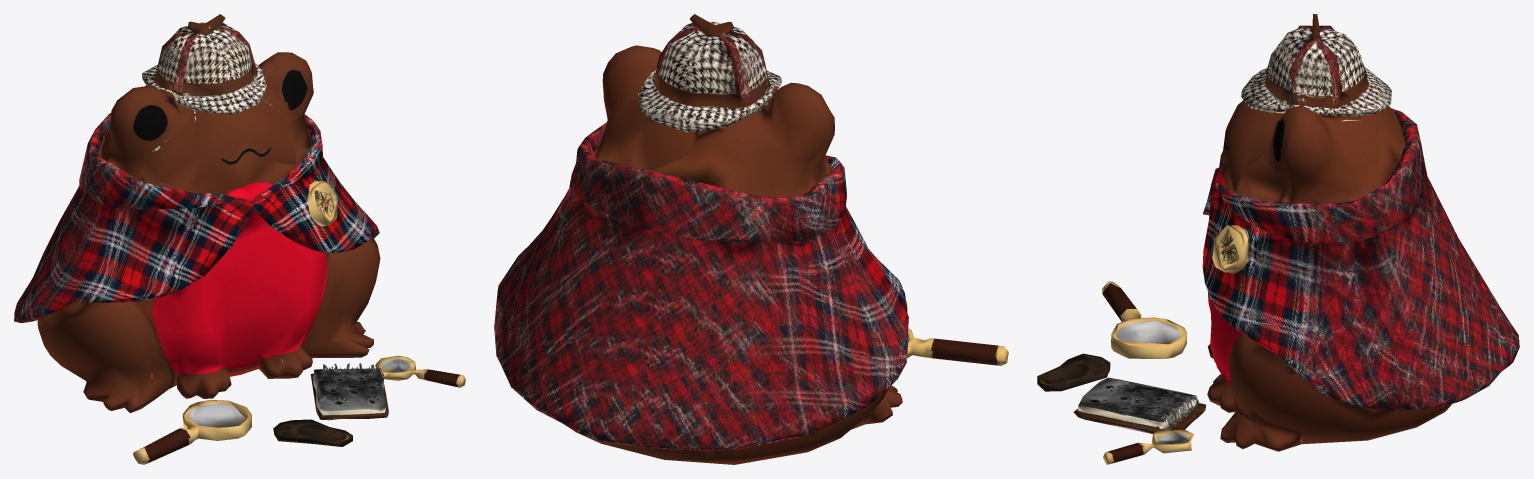
The model's file is limier.glb.
3 renders of one model, left to right at view 1: azimuth 30°, elevation 25°; view 2: azimuth 150°, elevation 25°; view 3: azimuth 270°, elevation 25°, orthographic. The views are drawn at different scales.
Parts seen in each view (by area): view 1: mesh_node; view 2: mesh_node; view 3: mesh_node.
Boxes of the visible parts, x1=… form: mesh_node: x1=14, y1=14, x2=465, y2=464; mesh_node: x1=494, y1=14, x2=1008, y2=464; mesh_node: x1=1037, y1=14, x2=1519, y2=464.
Bounding box in the file's own units: 1.7 × 1.56 × 1.9.
Materials: 1 (1 with a texture image).
